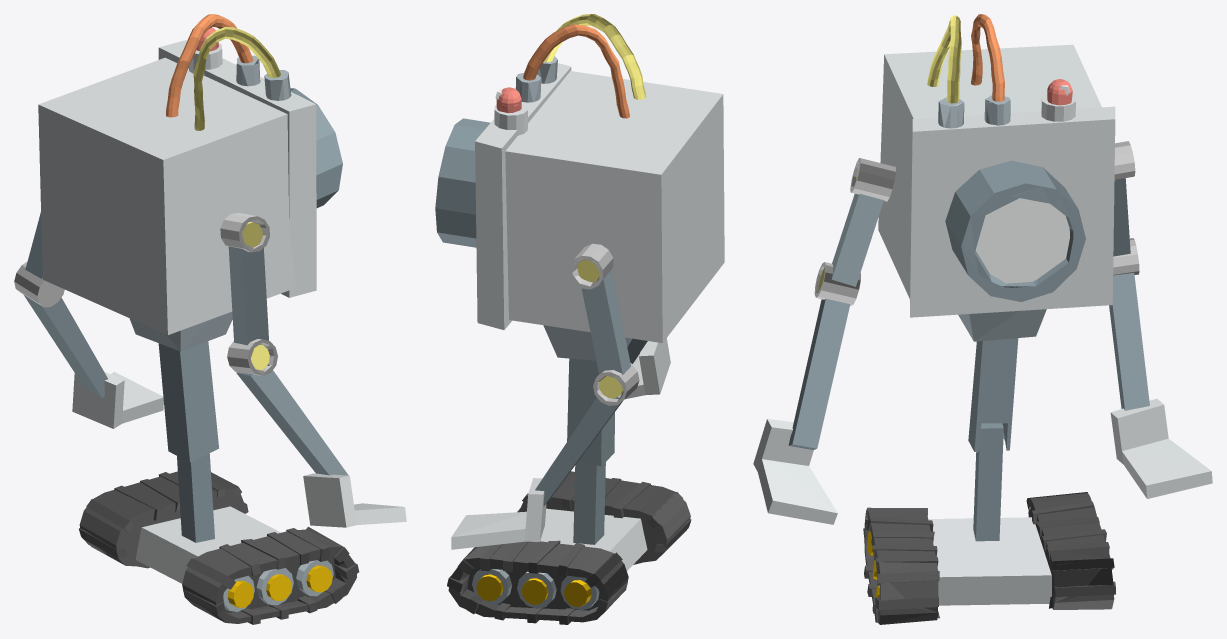
File: robot.glb
3 renders of one model, left to right at view 1: azimuth 30°, elevation 25°; view 2: azimuth 150°, elevation 25°; view 3: azimuth 270°, elevation 25°, orthographic. The views are drawn at different scales.
Parts seen in each view (by area): view 1: group1983749940, group1131850294, group350132644, group2141297075, group80228427, group382064065, group2096540494, group1041594552, group124309493, group175260438, group246472840; view 2: group1983749940, group2141297075, group246472840, group1131850294, group1041594552, group382064065, group80228427, group175260438, group124309493, group2096540494; view 3: group1983749940, group350132644, group382064065, group1131850294, group2141297075, group1041594552, group2096540494, group80228427, group124309493, group175260438, group246472840.
Part boxes in pixels (left/top/right/bottom): group1983749940: left=38, top=14, right=342, bottom=351; group1131850294: left=182, top=526, right=359, bottom=624; group350132644: left=220, top=213, right=348, bottom=475; group2141297075: left=79, top=471, right=248, bottom=568; group80228427: left=158, top=341, right=218, bottom=462; group382064065: left=135, top=506, right=280, bottom=583; group2096540494: left=303, top=473, right=406, bottom=527; group1041594552: left=72, top=372, right=163, bottom=428; group124309493: left=23, top=294, right=107, bottom=398; group175260438: left=177, top=453, right=214, bottom=542; group246472840: left=14, top=212, right=64, bottom=307; group1983749940: left=435, top=14, right=724, bottom=360; group2141297075: left=447, top=540, right=628, bottom=624; group246472840: left=569, top=243, right=639, bottom=405; group1131850294: left=517, top=471, right=691, bottom=564; group1041594552: left=451, top=478, right=546, bottom=549; group382064065: left=540, top=508, right=647, bottom=570; group80228427: left=567, top=358, right=614, bottom=466; group175260438: left=573, top=460, right=605, bottom=544; group124309493: left=535, top=396, right=622, bottom=505; group2096540494: left=626, top=338, right=670, bottom=398; group1983749940: left=878, top=14, right=1115, bottom=341; group350132644: left=788, top=158, right=895, bottom=449; group382064065: left=928, top=517, right=1051, bottom=605; group1131850294: left=863, top=507, right=939, bottom=624; group2141297075: left=1026, top=492, right=1115, bottom=609; group1041594552: left=1110, top=398, right=1212, bottom=498; group2096540494: left=753, top=419, right=837, bottom=524; group80228427: left=968, top=338, right=1018, bottom=451; group124309493: left=1109, top=273, right=1149, bottom=410; group175260438: left=973, top=423, right=1003, bottom=541; group246472840: left=1113, top=141, right=1139, bottom=275.
Bounding box in the file's own units: 0.4269 × 0.9302 × 0.6771.
